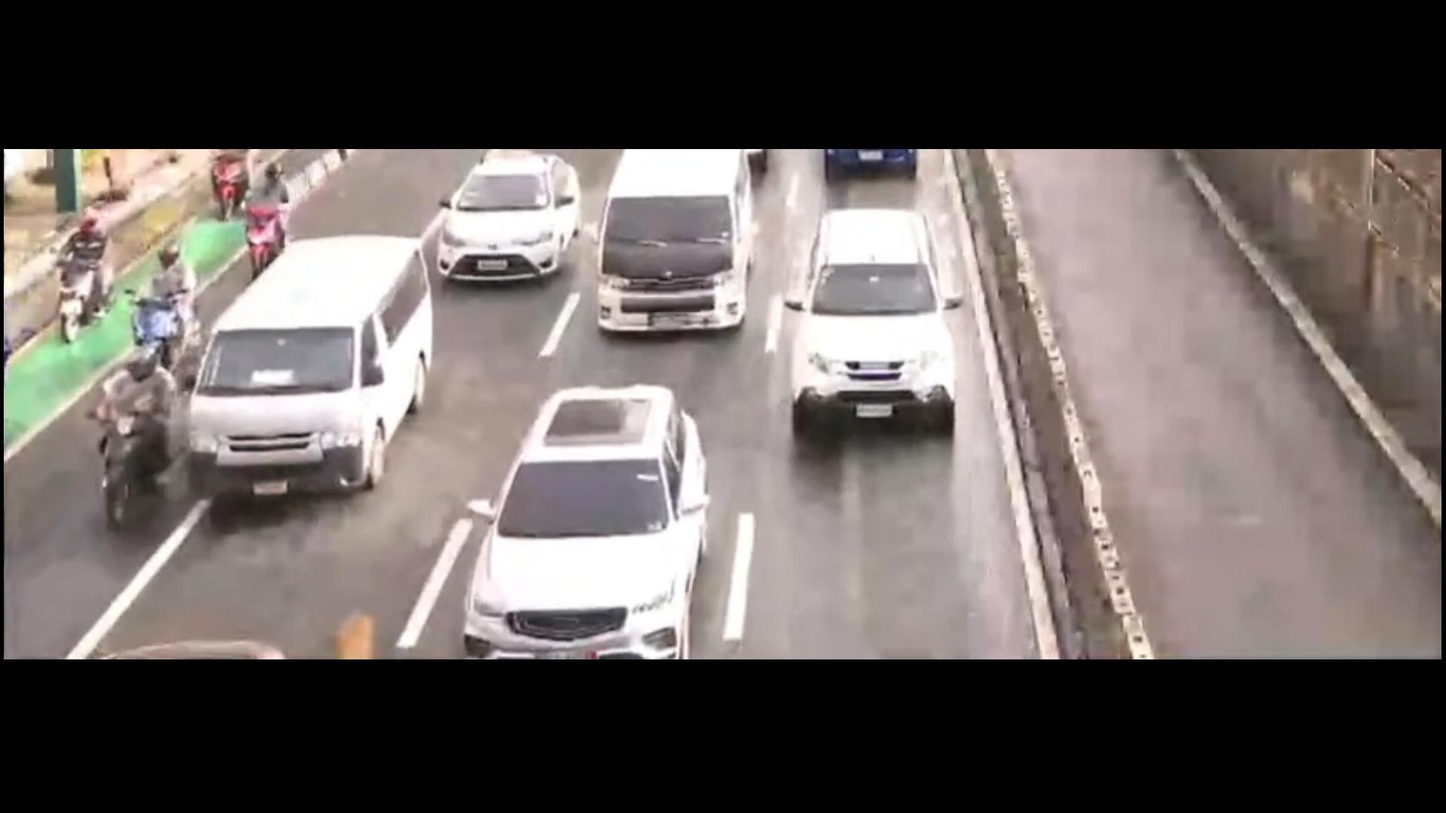Motorcycle: (76, 352, 189, 544), (46, 187, 132, 331), (129, 241, 213, 378), (231, 166, 315, 282), (213, 140, 257, 233)
SUV: (450, 364, 740, 655), (783, 179, 972, 461)
Sedan: (423, 142, 601, 298)
Van: (173, 213, 448, 524), (561, 149, 771, 349)
